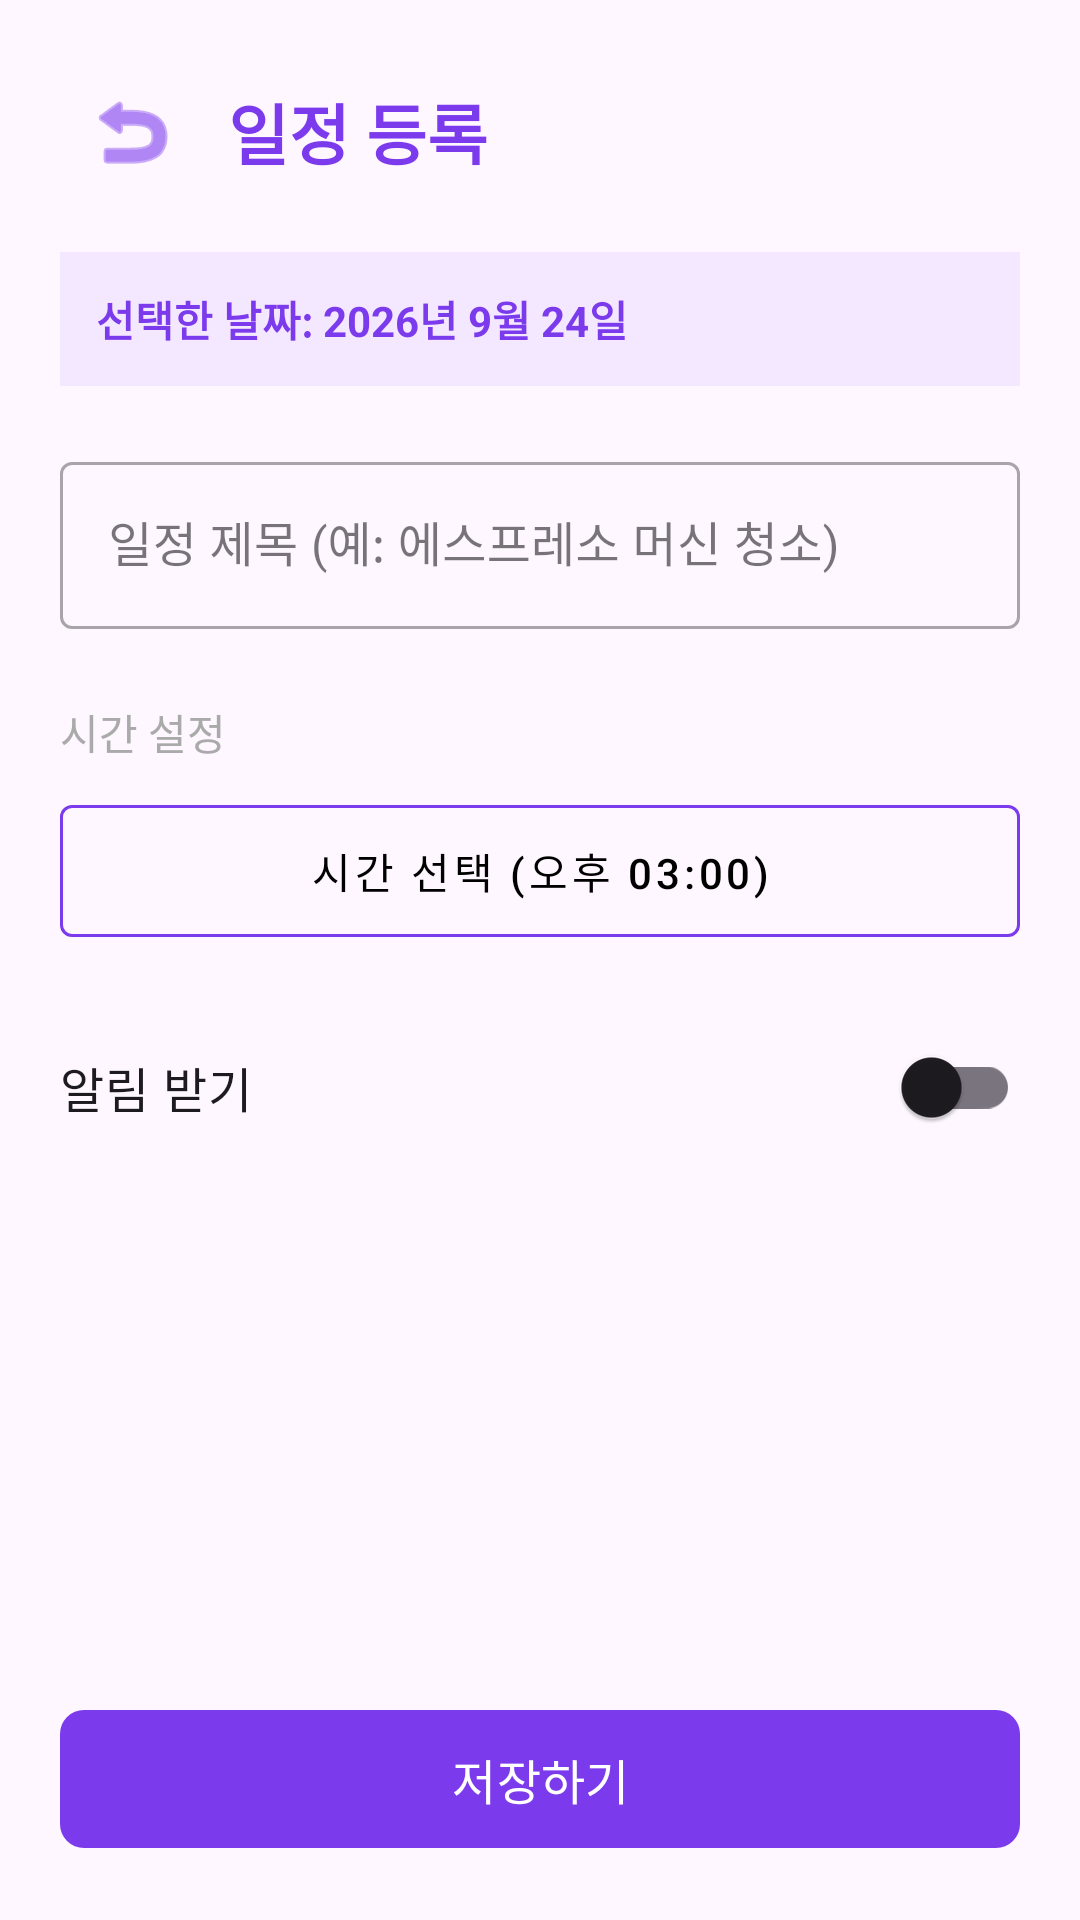

Icons on this 1080×1920 Android screen, each with its box as (x1,y1,x2,y2):
뒤로가기: (99,101,168,164)
